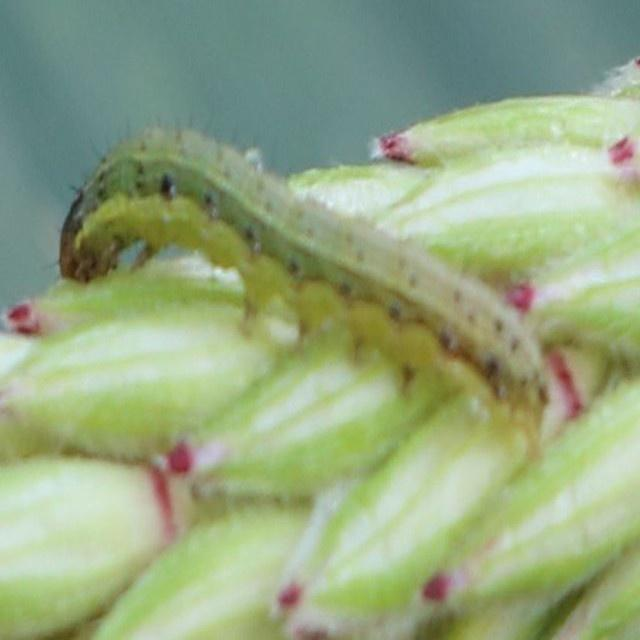gusano_cogollero: (52, 121, 550, 466)
